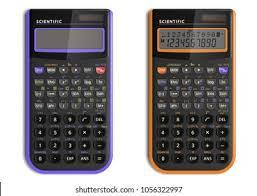Calculator: (140, 5, 243, 177), (21, 6, 116, 177)
